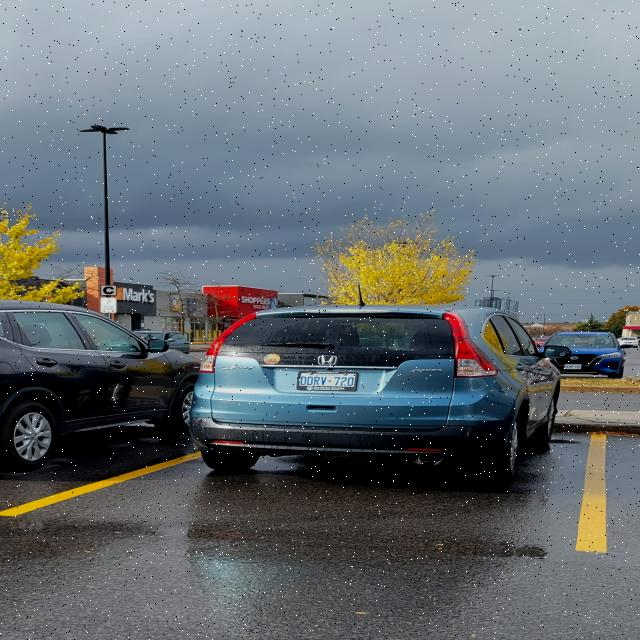plaque: (297, 372, 358, 391), (564, 365, 581, 370)
